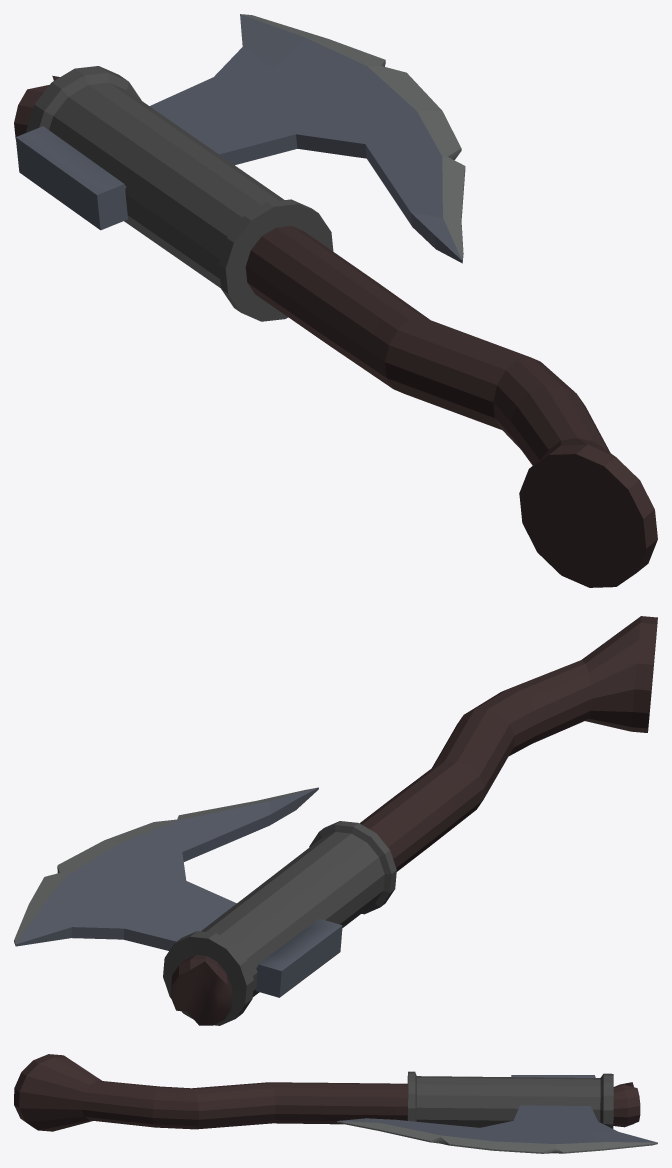
File: Axe_Basic.fbx
The picture shows the model from 3 angles, top to bottom: view 1: azimuth 30°, elevation 25°; view 2: azimuth 150°, elevation 25°; view 3: azimuth 270°, elevation 25°; orthographic projection. The views are drawn at different scales.
Visible parts, largest first — view 1: Axe_R; view 2: Axe_R; view 3: Axe_R.
Part boxes in pixels (x1,y1,x2,y2): Axe_R: [14, 14, 657, 587]; Axe_R: [14, 616, 657, 1025]; Axe_R: [14, 1054, 657, 1153].
Bounding box in the file's own units: 841 × 2182 × 6842.
